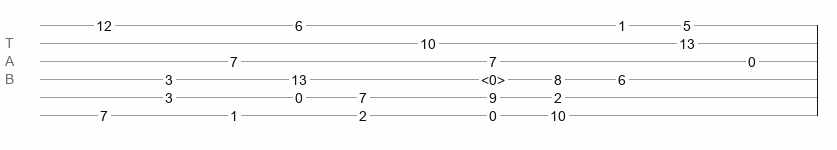0: (295, 90, 303, 100), (489, 108, 497, 118), (748, 54, 756, 64)
1: (230, 108, 238, 118), (618, 18, 626, 28)
10: (420, 36, 436, 46), (550, 108, 566, 118)
12: (96, 18, 112, 28)
13: (291, 72, 307, 82), (679, 36, 695, 46)
2: (359, 108, 367, 118), (554, 90, 562, 100)
3: (165, 72, 173, 82), (165, 90, 173, 100)
5: (683, 18, 691, 28)
6: (295, 18, 303, 28), (618, 72, 626, 82)
7: (100, 108, 108, 118), (230, 54, 238, 64), (359, 90, 367, 100), (489, 54, 497, 64)
8: (554, 72, 562, 82)
9: (489, 90, 497, 100)
harmonic: (481, 72, 505, 82)
